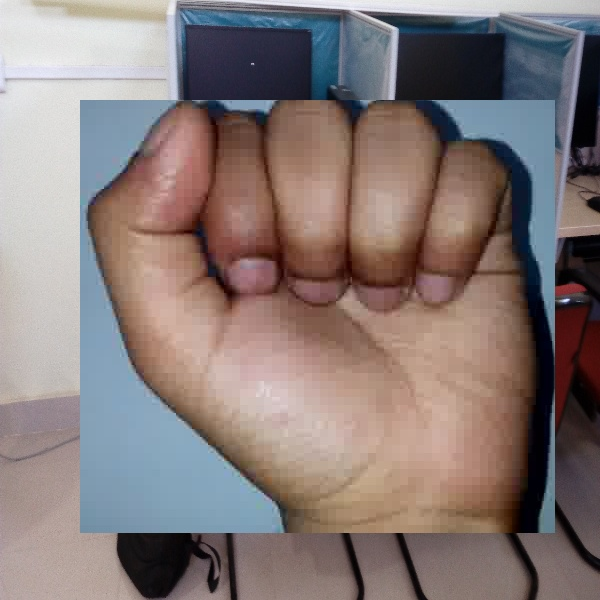A: (80, 100, 555, 533)
